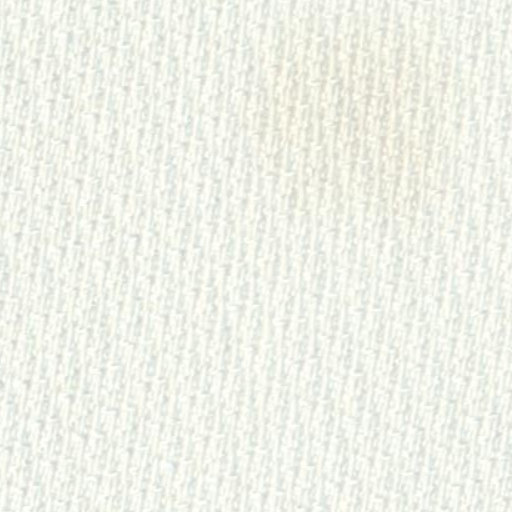WuZi: (236, 14, 486, 254)
